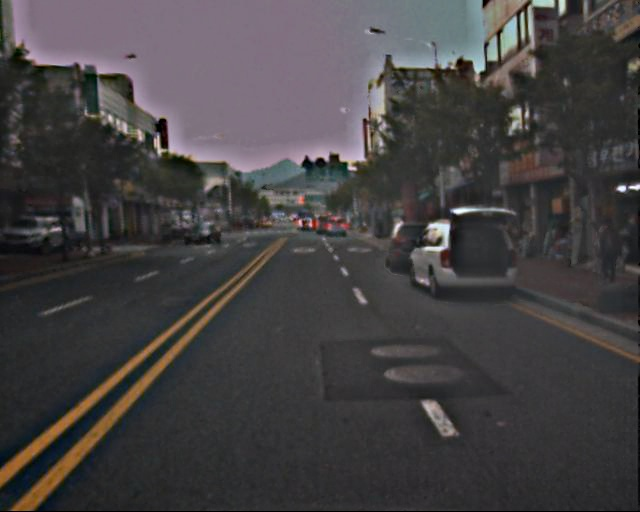person: (586, 215, 622, 285)
